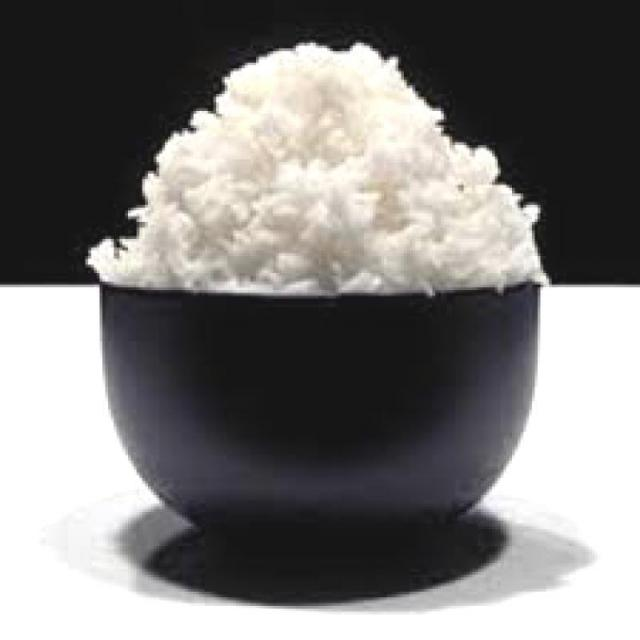rice: (92, 39, 549, 296)
